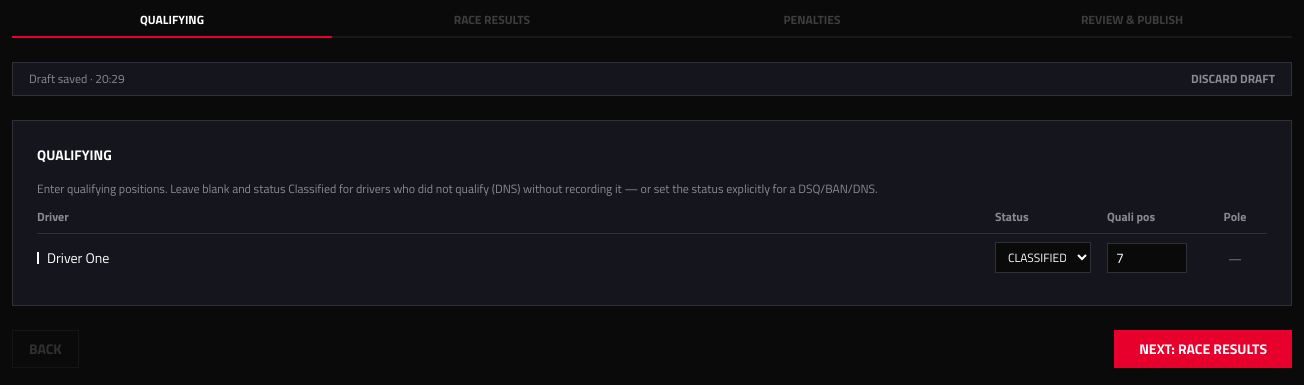
Test: ResultStepper draft persistence › discarding a restored draft removes it for good
The image size is (1304, 385).
Click the button "Discard draft" at (1233, 79), box [1191,71,1275,87]
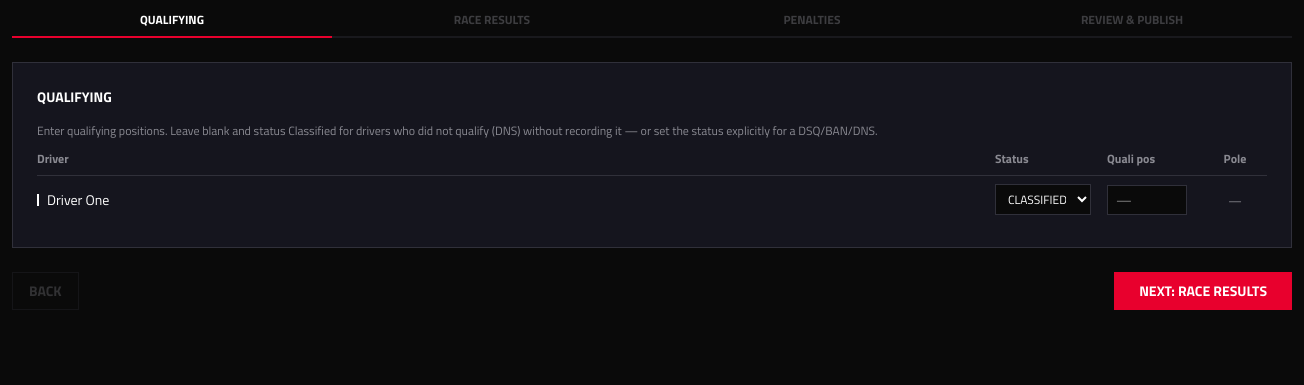
Result: the text "Draft saved ·" is gone
